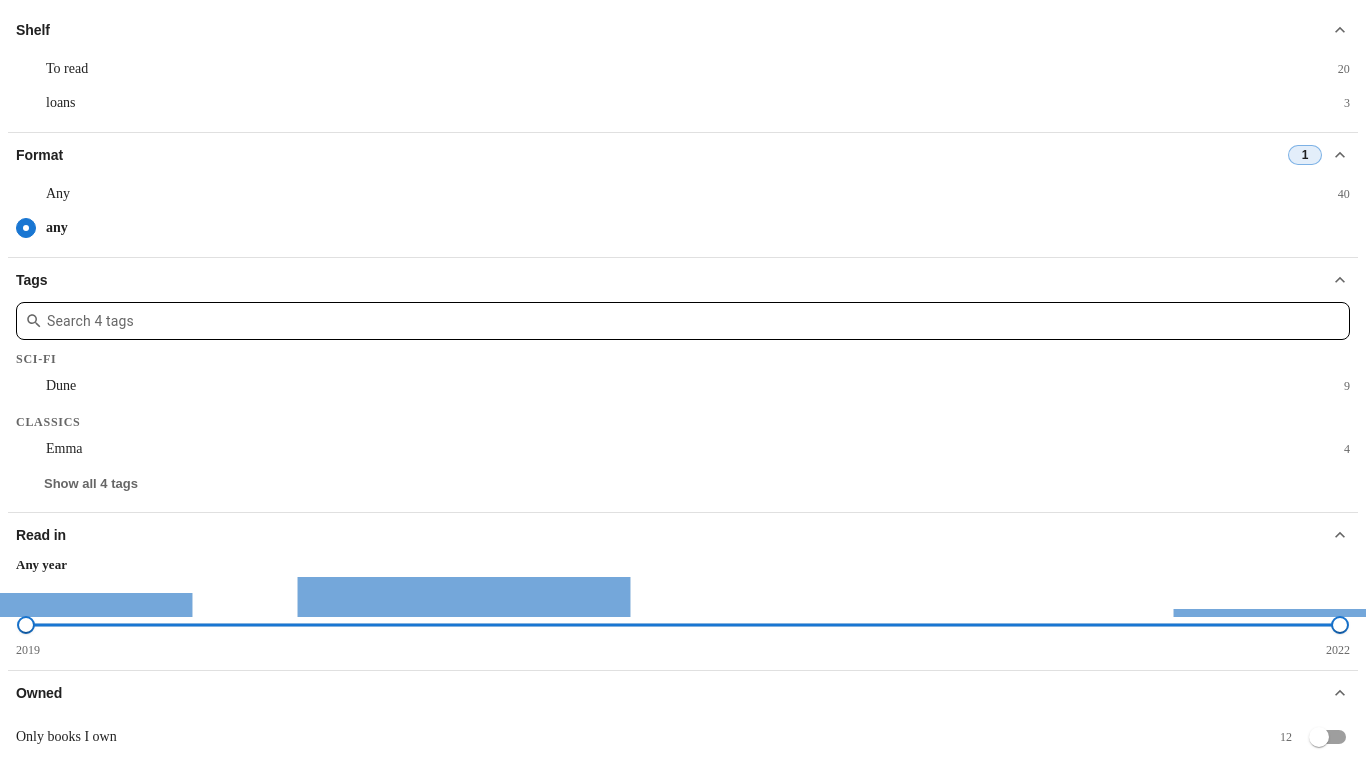
Scenario: FilterSections (books config) › a search that matches nothing says so, in the app’s noun
Type "zzz" into the search field named "Search tags".
click(698, 321); type("zzz")  # box 47,303 -> 1349,339
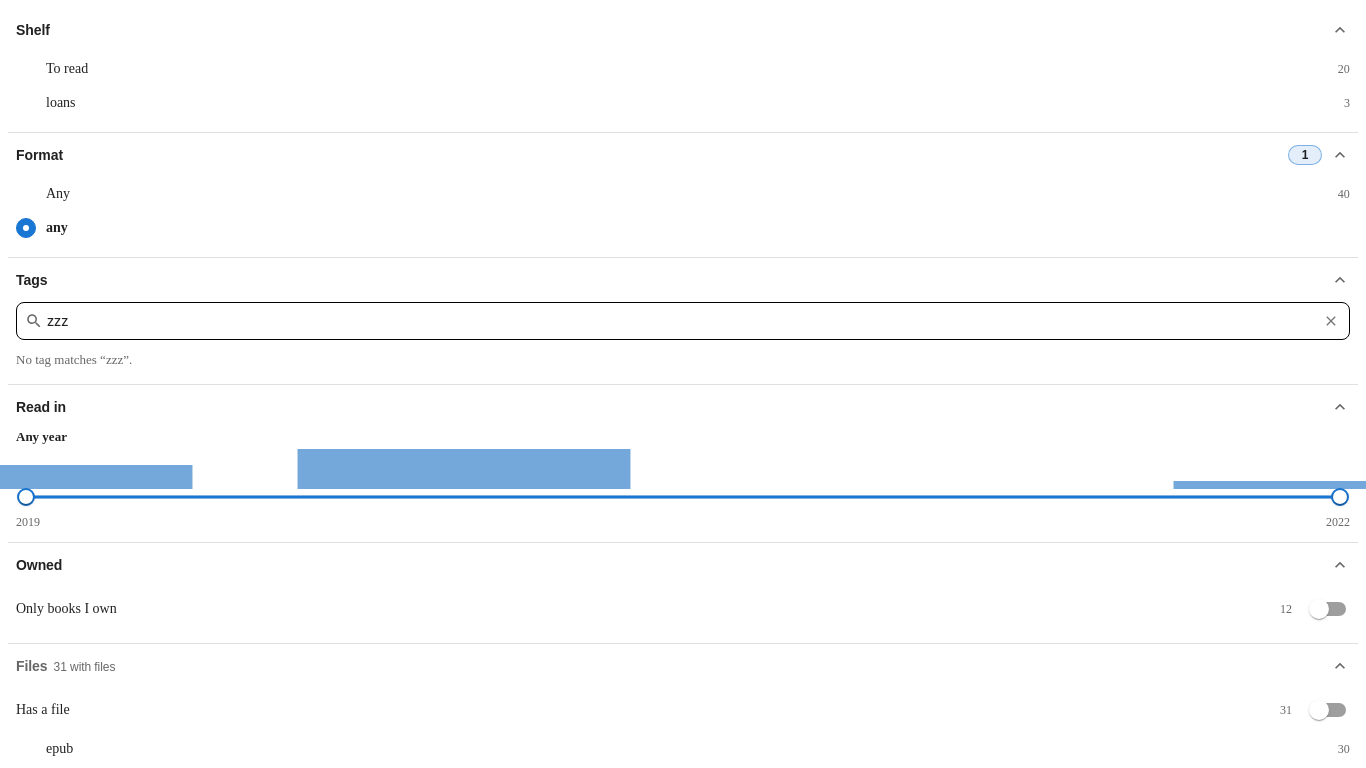
Expected: the text "No tag matches “zzz”." is shown, 16,352 -> 132,367
Click the button named "Clear tag search".
click(1331, 321)  # box 1309,299 -> 1353,343
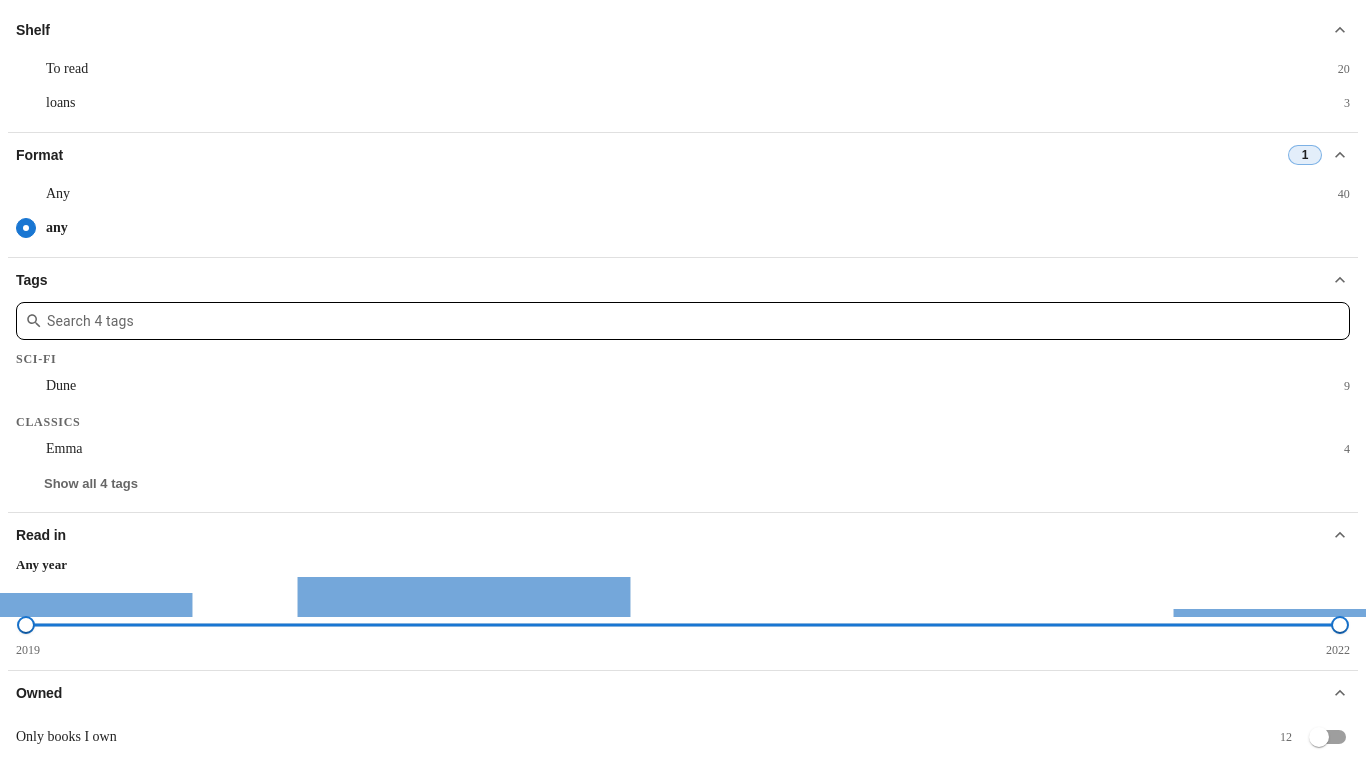
Expected: the checkbox labelled "Dune 9" is shown, 46,378 -> 1350,393
